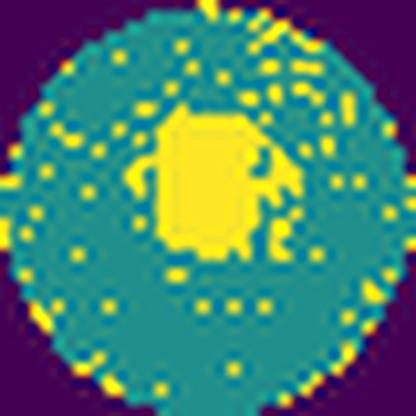Center: (125, 104, 307, 265)
